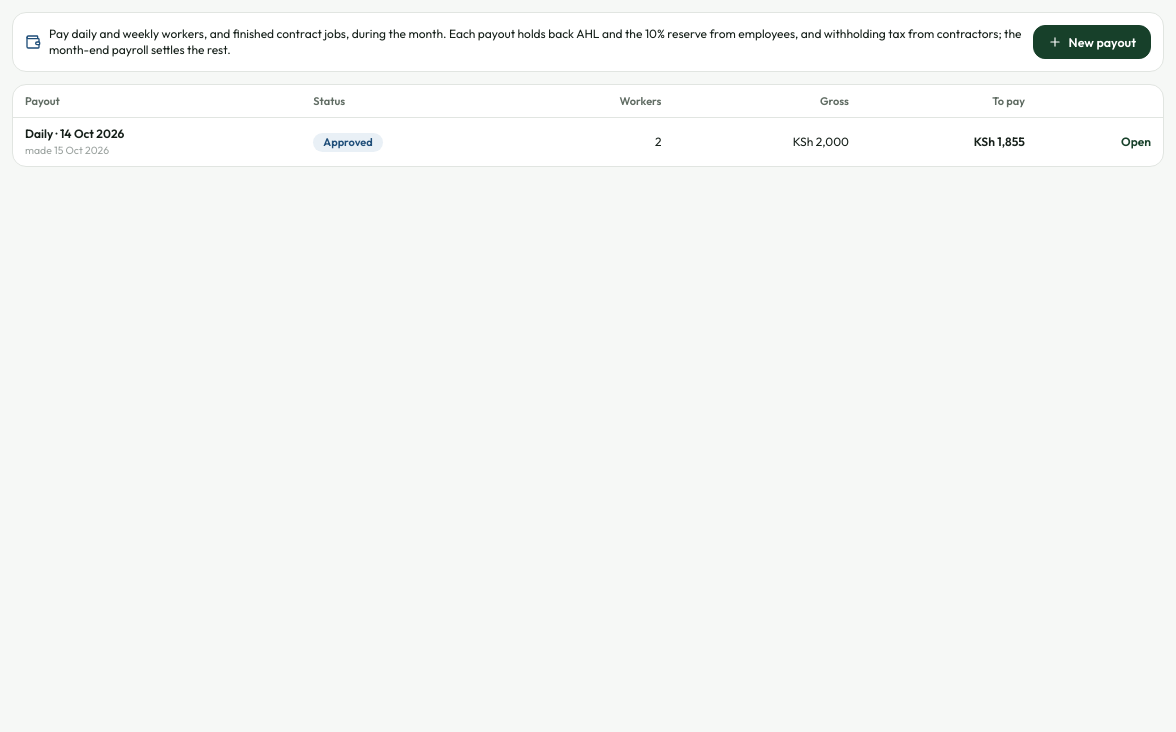
an approved payout › Equity waits for the company's Equity account; cancelling releases the work
Later steps or results of the test are not shown.
Click the button with aria-label "Open Daily payout" at (1136,142), box [1121,134,1151,150]
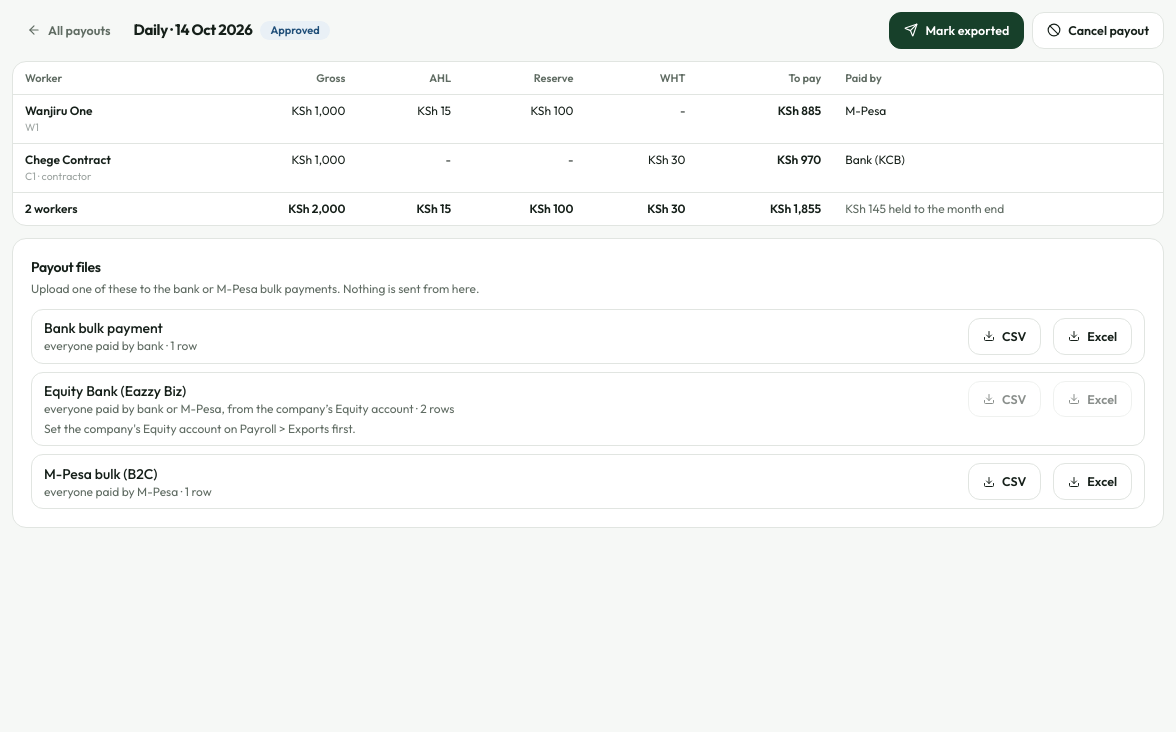
Check: the button with aria-label "Equity Bank (Eazzy Biz) CSV" is disabled, box [968,380,1041,417]
Check: the text "Set the company's Equity account on Payroll > Exports first." is shown, box [44,421,356,436]
